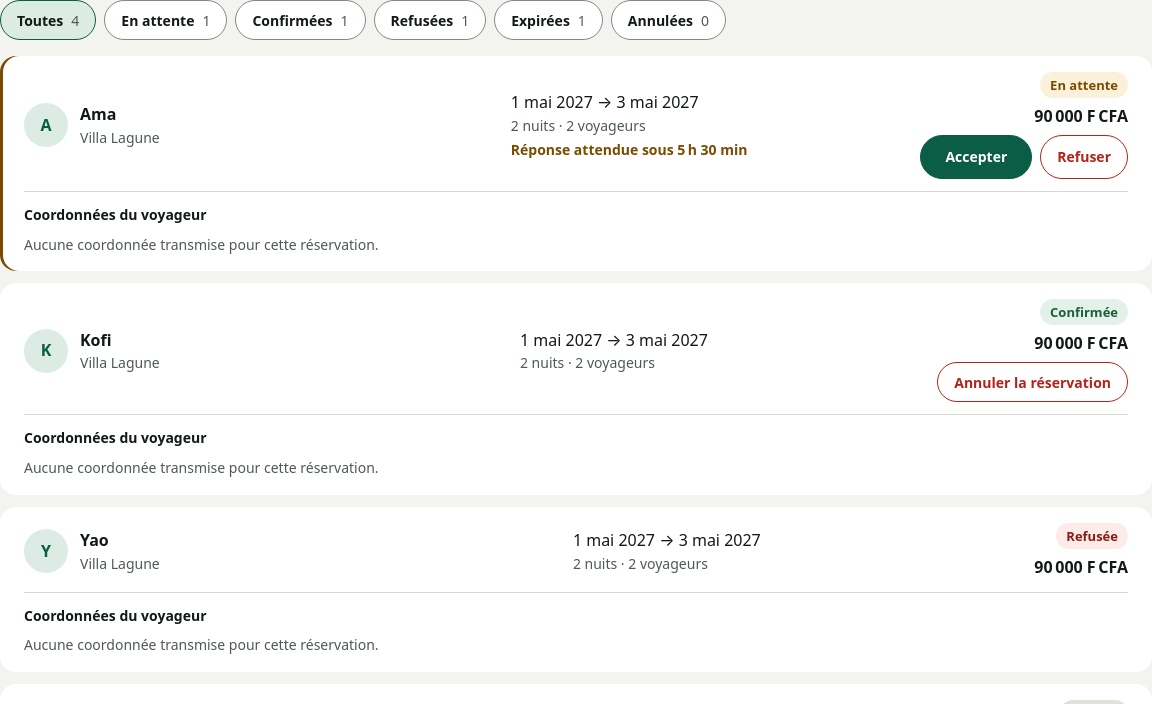
HostBookings › shows status badges, the response deadline and filters by status
This screenshot has width=1152, height=704.
Expected: the text "En attente" is shown, [1040,72,1128,98]
Expected: the text "Réponse attendue sous 5 h 30 min" is shown, [511,140,747,159]
Click the button "En attente 1" at (166, 20), box [104,0,227,40]
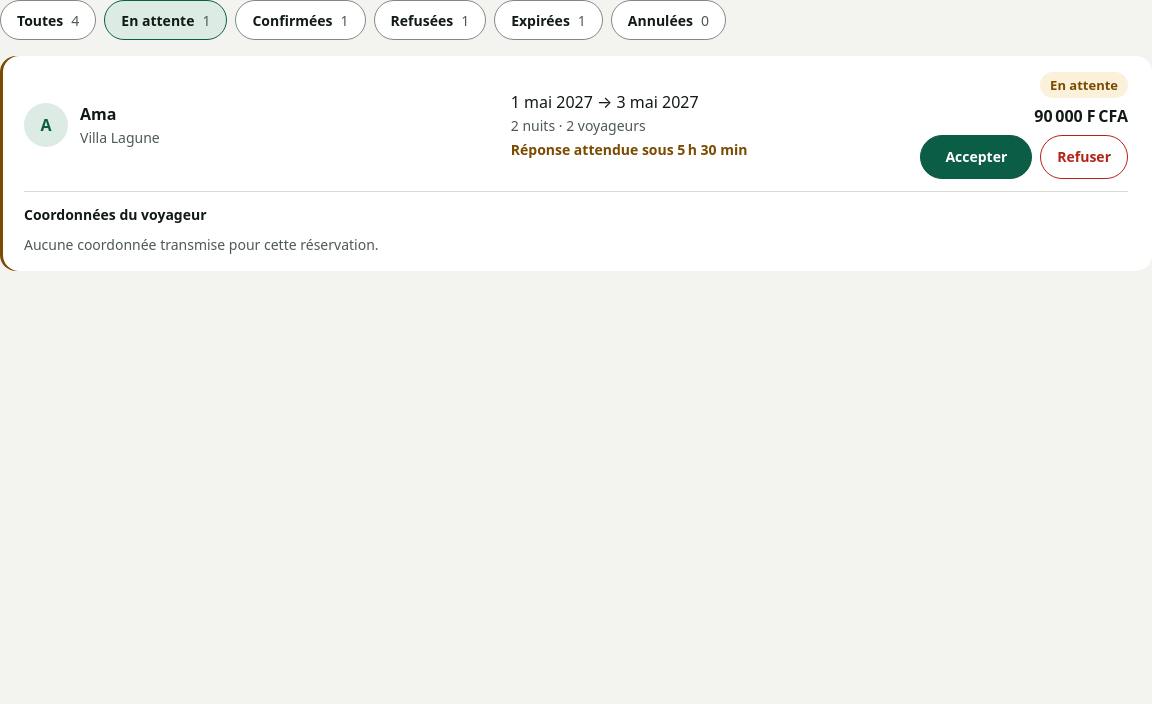
Expected: the text "Ama" is shown, [80,103,116,125]
Result: the text "Kofi" is gone
Click the button "Annulées 0" at (668, 20), box [611,0,726,40]
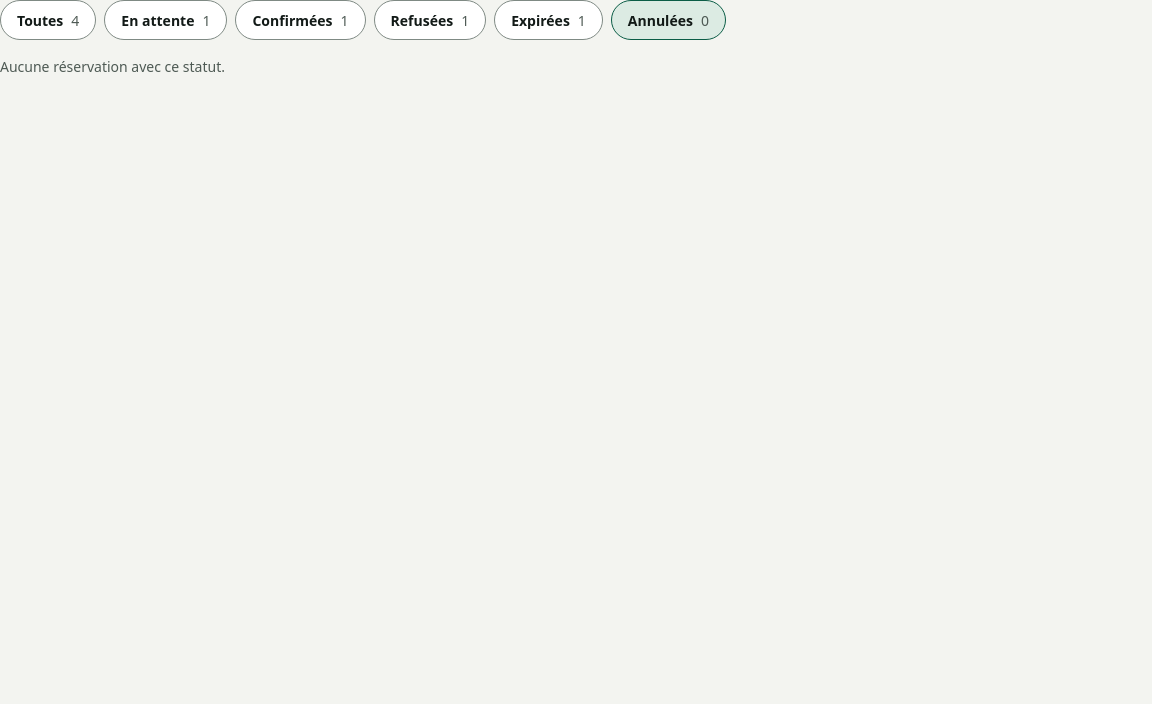
Result: the text "Aucune réservation avec ce statut." is shown at [0,57,225,76]
